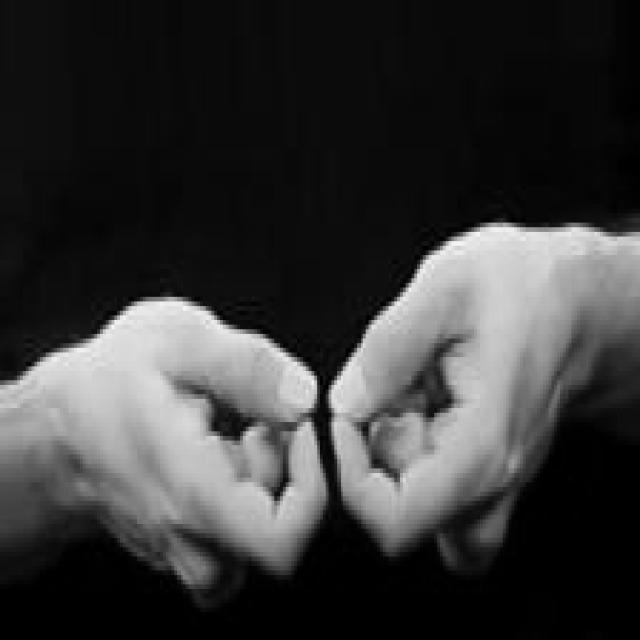B: (45, 217, 640, 598)
